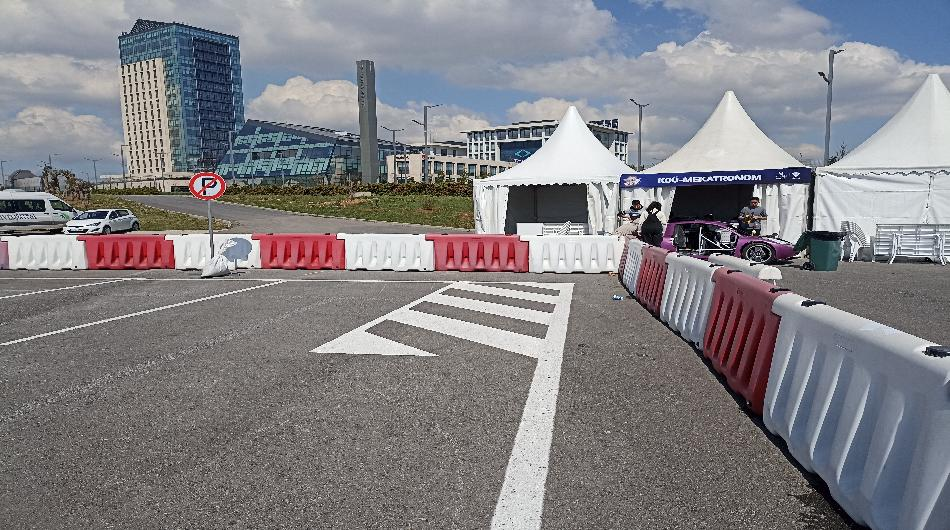park_yapilmaz_3: (189, 172, 226, 200)
